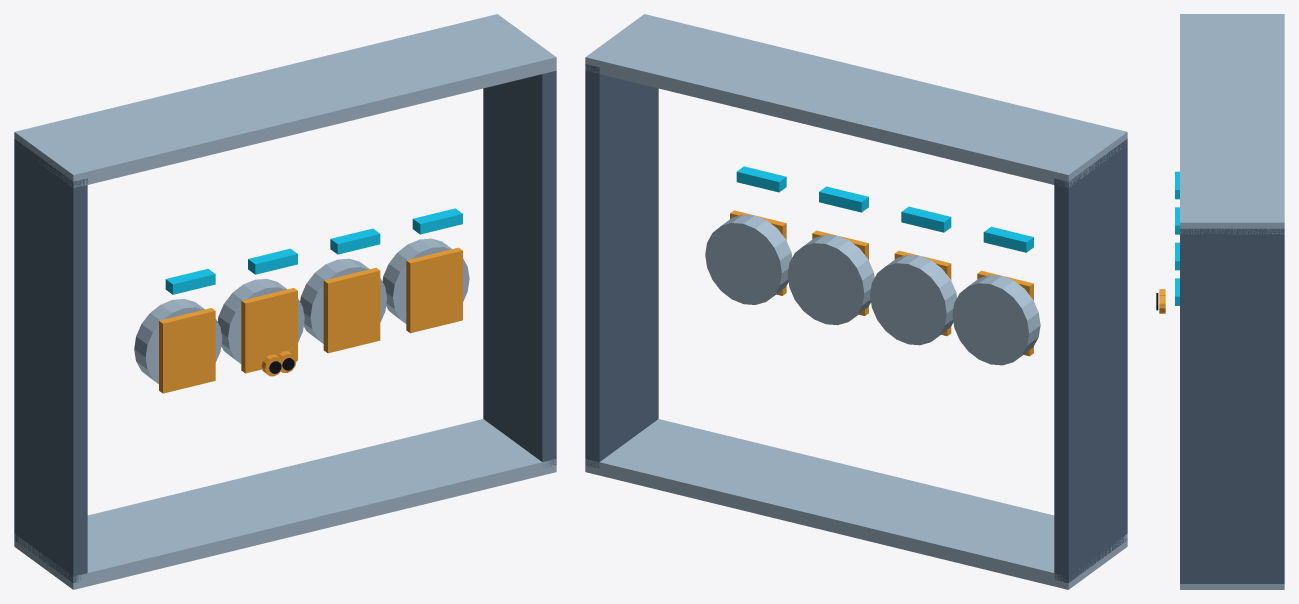
File: 61_L88_FourZoneMotorizedDamperBank.fbx
The picture shows the model from 3 angles, left to right: view 1: azimuth 30°, elevation 25°; view 2: azimuth 150°, elevation 25°; view 3: azimuth 270°, elevation 25°; orthographic projection. The views are drawn at different scales.
Visible parts, largest first — view 1: L87_FourZoneMotorizedDamperBank_Part_0001, L87_FourZoneMotorizedDamperBank_Part_0000, L87_FourZoneMotorizedDamperBank_Part_0005, L87_FourZoneMotorizedDamperBank_Part_0002, L87_FourZoneMotorizedDamperBank_Part_0006, L87_FourZoneMotorizedDamperBank_Part_0004, L87_FourZoneMotorizedDamperBank_Part_0003; view 2: L87_FourZoneMotorizedDamperBank_Part_0001, L87_FourZoneMotorizedDamperBank_Part_0000, L87_FourZoneMotorizedDamperBank_Part_0003; view 3: L87_FourZoneMotorizedDamperBank_Part_0000, L87_FourZoneMotorizedDamperBank_Part_0001, L87_FourZoneMotorizedDamperBank_Part_0003.
Boxes of the visible parts, x1,y1,x2,y2 form: L87_FourZoneMotorizedDamperBank_Part_0001: [14, 14, 556, 589]; L87_FourZoneMotorizedDamperBank_Part_0000: [14, 70, 556, 582]; L87_FourZoneMotorizedDamperBank_Part_0005: [323, 267, 380, 353]; L87_FourZoneMotorizedDamperBank_Part_0002: [159, 308, 215, 393]; L87_FourZoneMotorizedDamperBank_Part_0006: [406, 247, 462, 333]; L87_FourZoneMotorizedDamperBank_Part_0004: [241, 288, 297, 373]; L87_FourZoneMotorizedDamperBank_Part_0003: [165, 208, 462, 294]; L87_FourZoneMotorizedDamperBank_Part_0001: [585, 14, 1127, 589]; L87_FourZoneMotorizedDamperBank_Part_0000: [585, 64, 1127, 582]; L87_FourZoneMotorizedDamperBank_Part_0003: [736, 166, 1033, 252]; L87_FourZoneMotorizedDamperBank_Part_0000: [1180, 228, 1284, 583]; L87_FourZoneMotorizedDamperBank_Part_0001: [1180, 14, 1284, 589]; L87_FourZoneMotorizedDamperBank_Part_0003: [1175, 171, 1179, 305].
Size of the model in its own units: 340 by 279 by 88.2.
